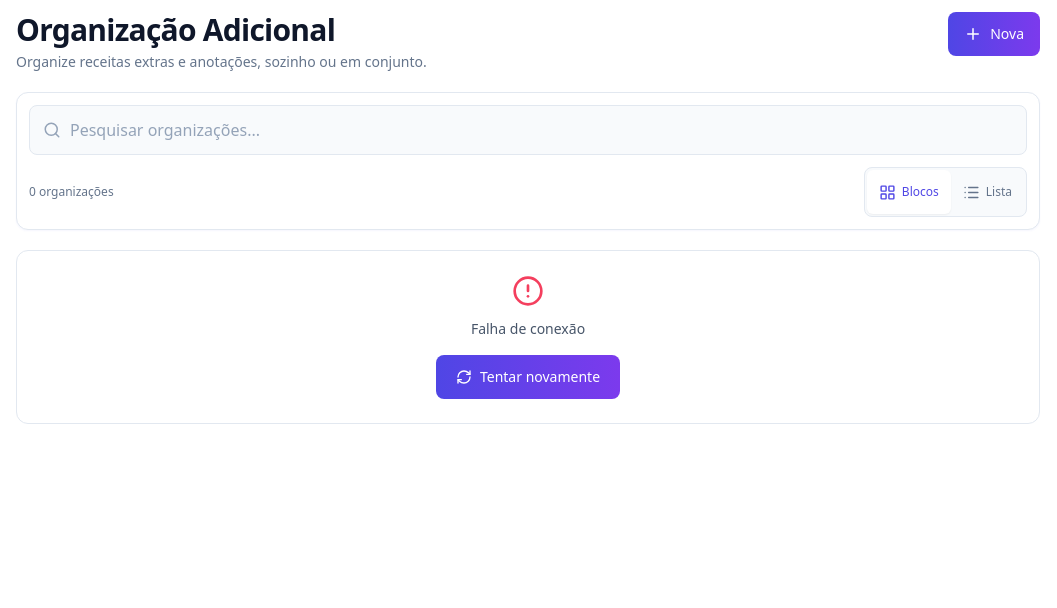
AdditionalOrganizations › exibe erro e permite tentar novamente
Expected: the text "Falha de conexão" is shown, [471, 319, 585, 338]
Click the button "Tentar novamente" at [528, 377], box [436, 355, 620, 399]
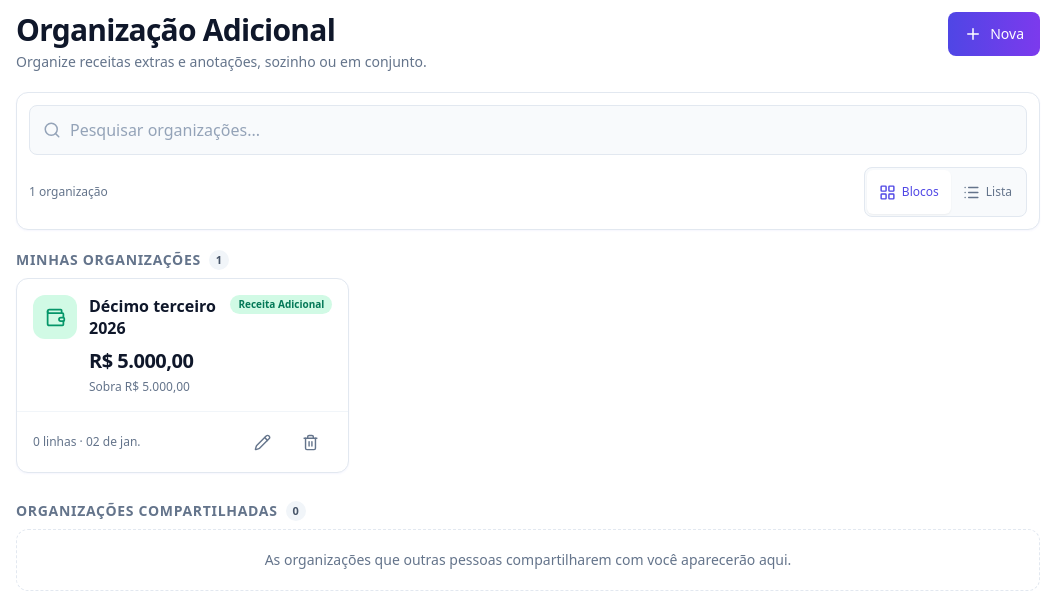
Expected: the text "Décimo terceiro 2026" is shown, [89, 295, 222, 339]
